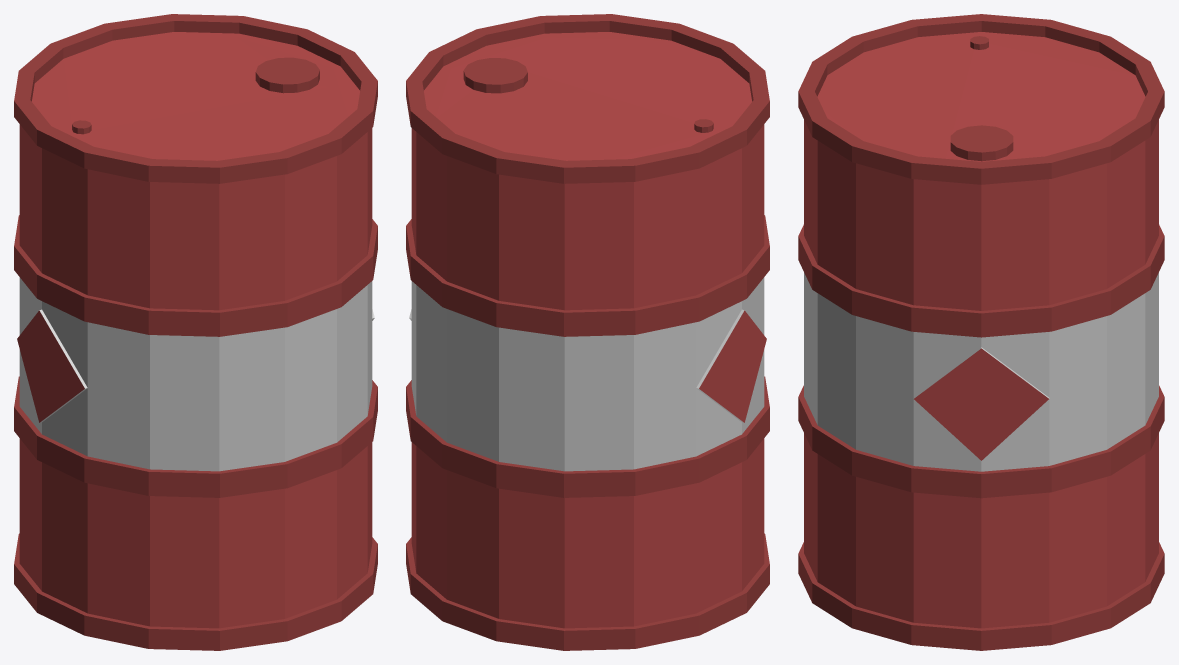
Rendered from Barrel_Explosive.fbx.
The picture shows the model from 3 angles, left to right: view 1: azimuth 30°, elevation 25°; view 2: azimuth 150°, elevation 25°; view 3: azimuth 270°, elevation 25°; orthographic projection.
Visible parts, largest first — view 1: Cylinder; view 2: Cylinder; view 3: Cylinder.
Part boxes in pixels (x1=…): Cylinder: x1=14, y1=14, x2=377, y2=650; Cylinder: x1=406, y1=14, x2=769, y2=650; Cylinder: x1=798, y1=14, x2=1164, y2=650.
Size of the model in its own units: 206 by 300 by 206.
